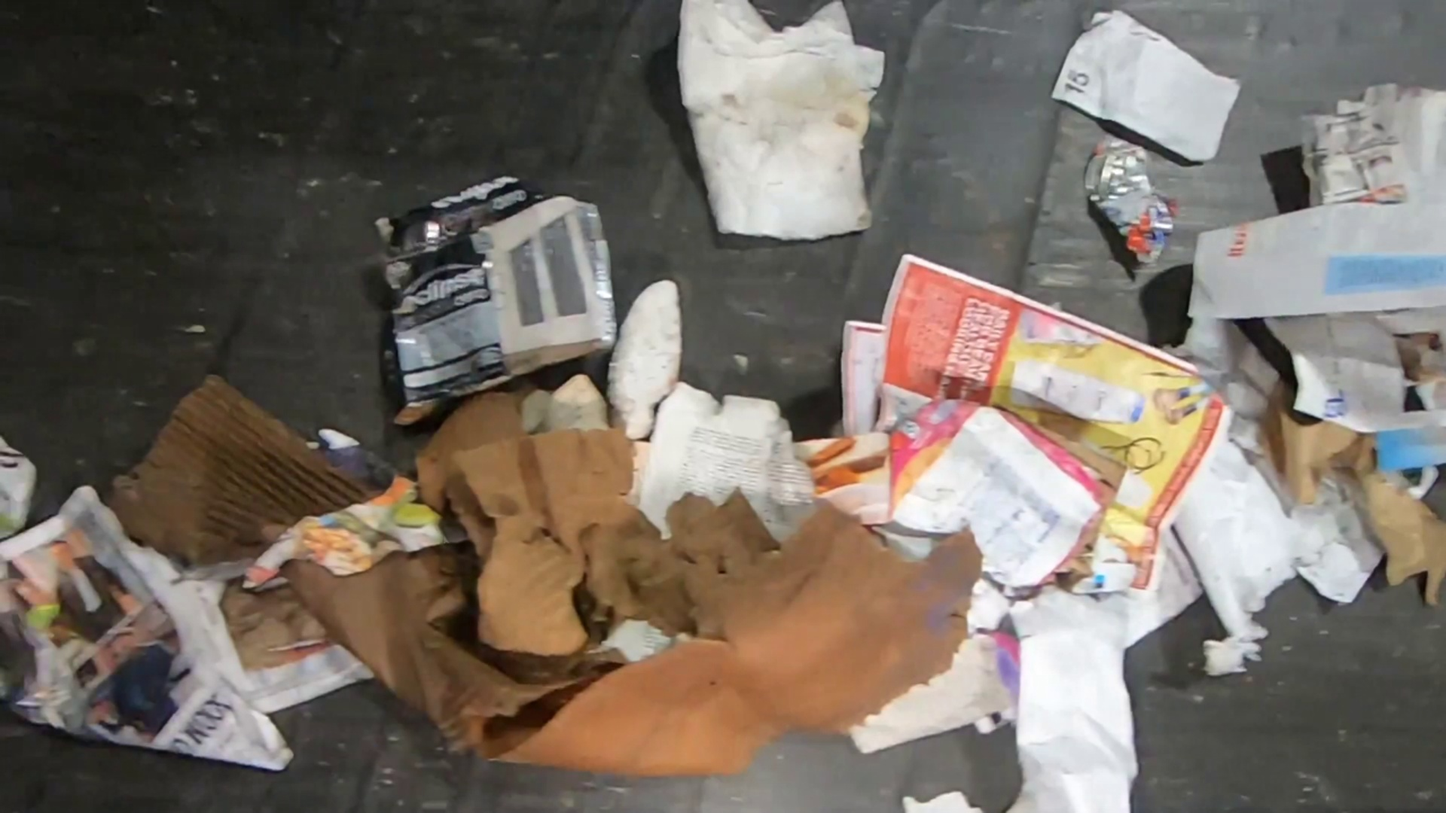cardboard: (443, 425, 780, 684), (374, 175, 617, 427), (106, 376, 383, 571)
metal: (1083, 135, 1184, 270), (0, 428, 36, 543)
